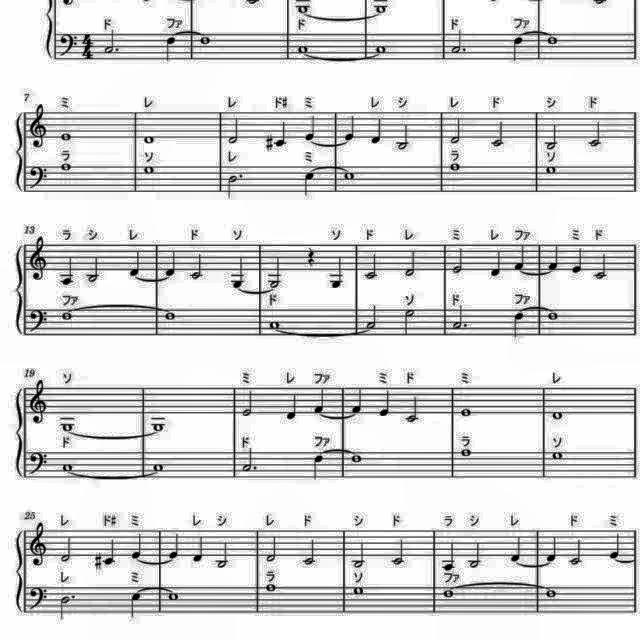Bass-clef: (26, 448, 50, 478), (26, 584, 50, 612), (25, 303, 47, 333), (57, 30, 79, 59), (28, 164, 50, 192)
Diez: (264, 130, 276, 154), (92, 552, 104, 574)
Full-note: (148, 418, 168, 434), (58, 418, 78, 434), (292, 0, 312, 14), (373, 1, 391, 16), (162, 308, 178, 324), (544, 586, 560, 602), (544, 310, 562, 324), (544, 33, 562, 47), (266, 317, 284, 331), (198, 33, 215, 47), (550, 409, 566, 423), (166, 589, 182, 603), (542, 163, 558, 177), (458, 447, 474, 461), (342, 169, 358, 183), (58, 131, 74, 145), (60, 308, 74, 324), (140, 134, 158, 146), (458, 406, 474, 419), (374, 41, 390, 54), (348, 452, 364, 464), (152, 460, 168, 472), (550, 450, 566, 462), (264, 582, 280, 594), (350, 586, 366, 598), (141, 164, 157, 176), (294, 42, 310, 54), (60, 460, 76, 472), (441, 588, 457, 600), (59, 160, 72, 174), (448, 163, 464, 174)
Half-dot: (226, 170, 247, 204), (450, 302, 470, 334), (58, 591, 78, 621), (450, 28, 470, 56), (241, 446, 261, 474), (102, 27, 122, 55)
Half-note: (465, 538, 483, 570), (567, 534, 585, 566), (405, 394, 423, 426), (267, 256, 285, 288), (489, 118, 507, 150), (301, 536, 319, 568), (264, 532, 282, 564), (393, 120, 411, 150), (448, 117, 466, 147), (389, 536, 407, 566), (585, 119, 603, 149), (592, 252, 610, 282), (213, 540, 231, 570), (186, 253, 204, 283), (226, 116, 242, 148), (59, 535, 76, 565), (542, 122, 560, 150), (241, 390, 257, 420), (403, 305, 419, 335), (448, 247, 464, 277), (404, 249, 420, 279), (362, 253, 378, 283), (352, 540, 368, 570), (363, 302, 379, 330)
Quarter-note: (328, 256, 348, 292), (58, 256, 78, 288), (230, 255, 248, 289), (441, 539, 459, 573), (128, 589, 146, 621), (302, 113, 320, 143), (85, 254, 103, 284), (192, 532, 208, 564), (370, 116, 386, 148), (488, 248, 504, 280), (506, 536, 524, 564), (510, 308, 524, 344), (284, 391, 300, 422), (310, 451, 326, 482), (102, 538, 118, 568), (129, 531, 145, 561), (547, 242, 563, 272), (350, 385, 366, 415), (274, 120, 290, 150), (164, 249, 180, 279), (342, 113, 358, 143), (164, 34, 180, 64), (511, 33, 527, 63), (608, 532, 624, 560), (512, 244, 528, 272), (545, 536, 561, 564), (128, 250, 144, 278), (312, 388, 328, 416), (302, 169, 318, 197), (378, 388, 392, 419), (569, 245, 583, 275), (168, 529, 182, 559)
Quarter-rest: (305, 245, 319, 267)
Treble-clef: (24, 235, 48, 285), (24, 375, 48, 425), (24, 104, 48, 152), (28, 520, 50, 568)
